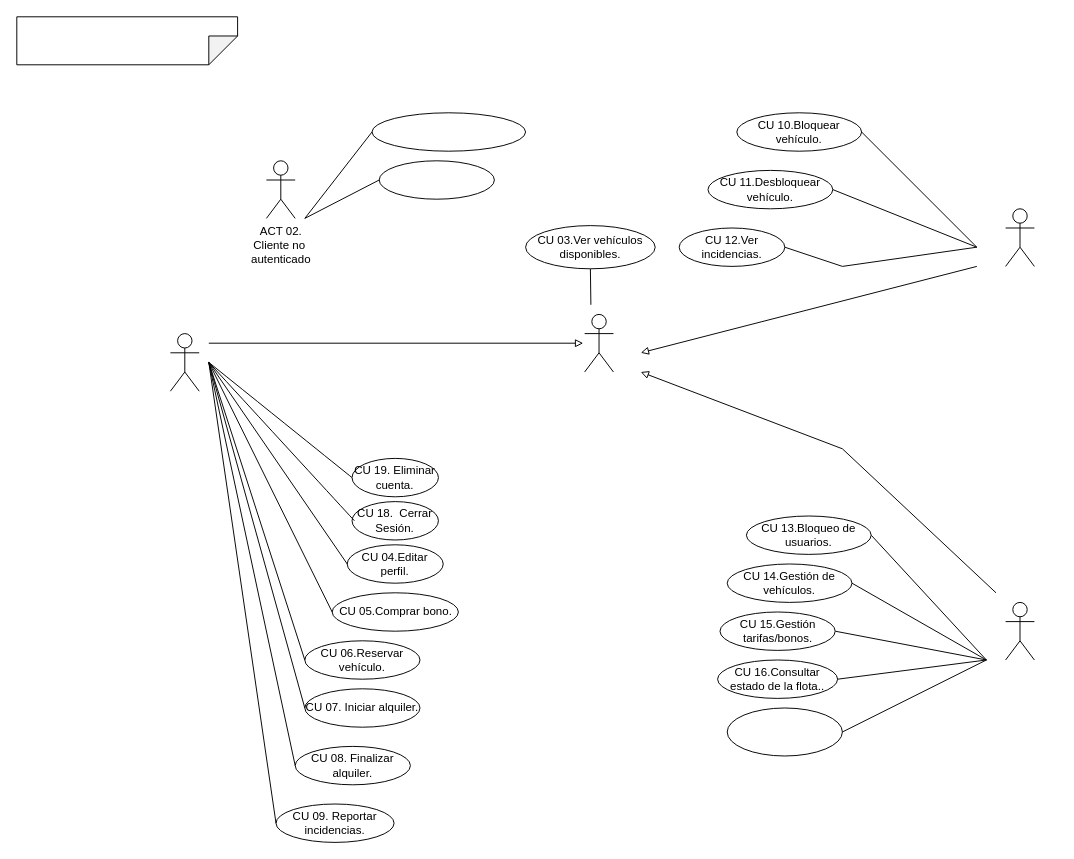
This 1074x859 diagram has some shape labels left out. The box of each missing label's shape, as (x1, y1, x2, y2) in pixels:
ACT 01. Usuario: (584, 313, 613, 372)
ACT 03. Cliente autenticado: (169, 333, 199, 391)
ACT 04. Administrador: (1005, 601, 1034, 660)
ACT 05. Servicio mantenimiento: (1005, 208, 1034, 266)
CU 01. Registrar en la aplicación.: (371, 112, 526, 151)
CU 02.Iniciar sesión.: (378, 160, 494, 199)
CU 17.Gestión de personal.: (726, 707, 842, 756)
Diagrama de Casos de Uso Inicial Completo (Grueso): (16, 16, 238, 65)
